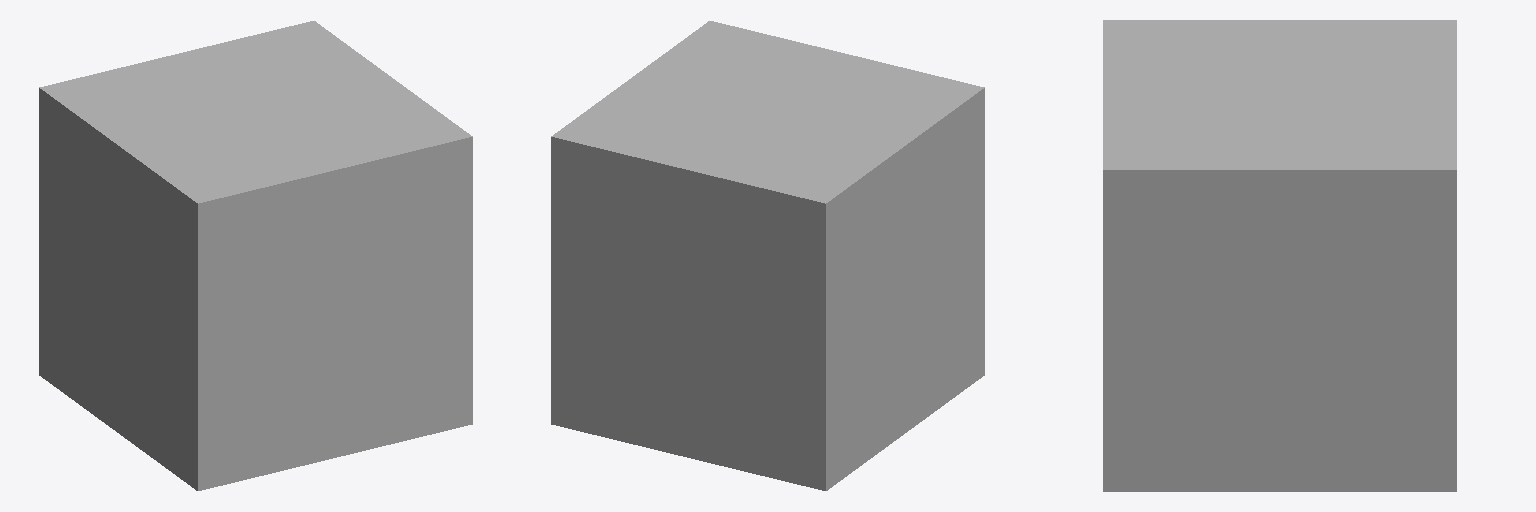
The robot description file, URDF, robot "root":
<robot name="root">
  <link name="link_001">
    <visual>
      <origin xyz="0 0 0" rpy="0 0 0"/>
      <geometry>
        <mesh filename="cubemedium.obj" scale="0.600E+00 0.600E+00 0.6000E+00"/>
      </geometry>
      <material name="">
        <color rgba="7.50E-01 7.50E-01 7.50E-01 1"/>
      </material>
    </visual>
    <collision>
      <origin xyz="0 0 0" rpy="0 0 0"/>
      <geometry>
        <mesh filename="cubemedium.obj" scale="0.6000E+00 0.6000E+00 0.6000E+00"/>
      </geometry>
    </collision>
    <inertial>
      <mass value="0.16"/> <!-- 质量：0.1kg -->
    </inertial>
  </link>
</robot>

--- What the picture shows (computed from the rendered views, not written in the file) ---
3 views of the same robot in one strip: view 1: azimuth 30°, elevation 25°; view 2: azimuth 150°, elevation 25°; view 3: azimuth 270°, elevation 25° (orthographic).
Model root with 1 links and 0 joints (none), rooted at link_001, posed all joints at 0.
Visible links, largest first — view 1: link_001; view 2: link_001; view 3: link_001.
Boxes of the visible links, <box> form: link_001: <box>39,21,472,490</box>; link_001: <box>551,21,984,490</box>; link_001: <box>1103,20,1456,491</box>.
Bounding box of the posed robot: 0.048 × 0.048 × 0.048 m (x, y, z).
Meshes: 1 distinct files referenced, 1 mesh visuals loaded (1 OBJ).
